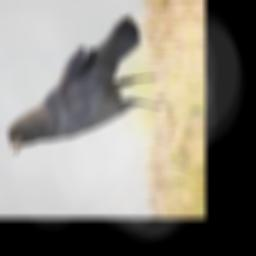Crow: (0, 14, 166, 157)
